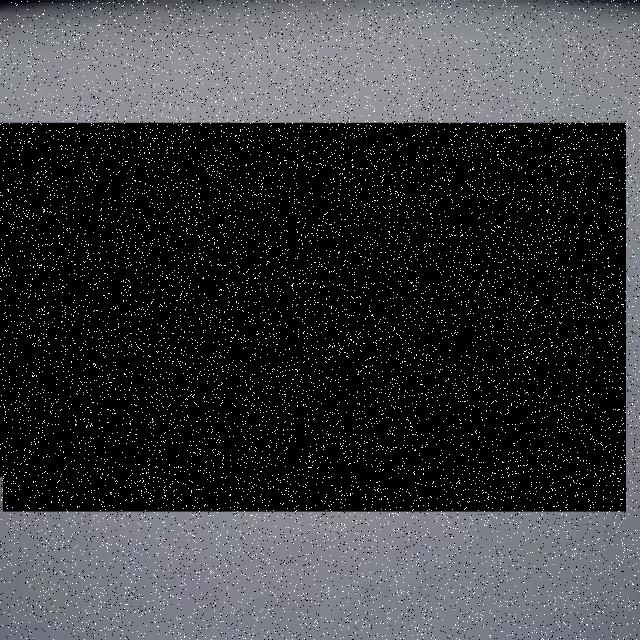dua puluh ribu rupiah: (0, 123, 626, 511)
